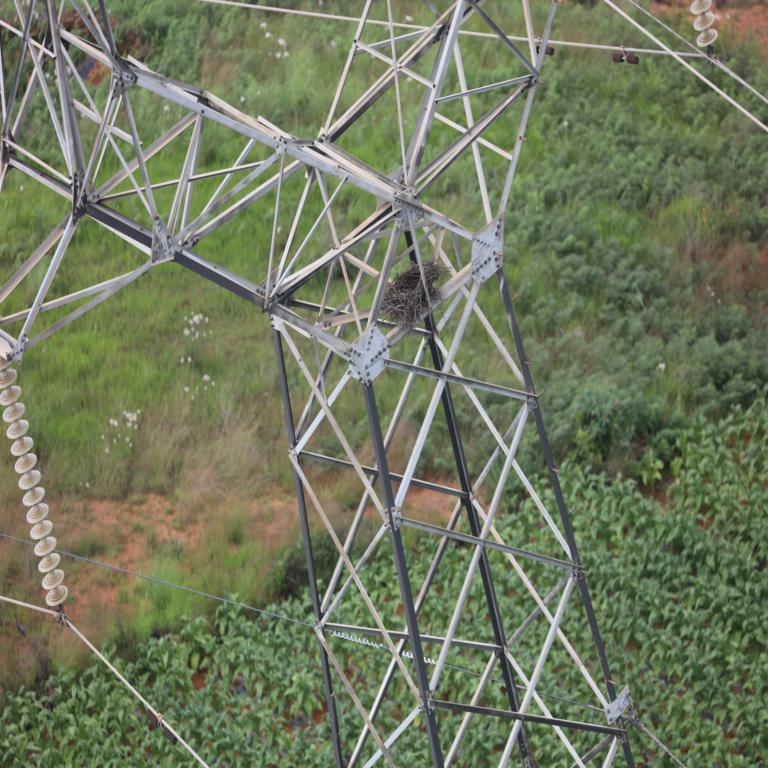nest: (383, 267, 442, 329)
